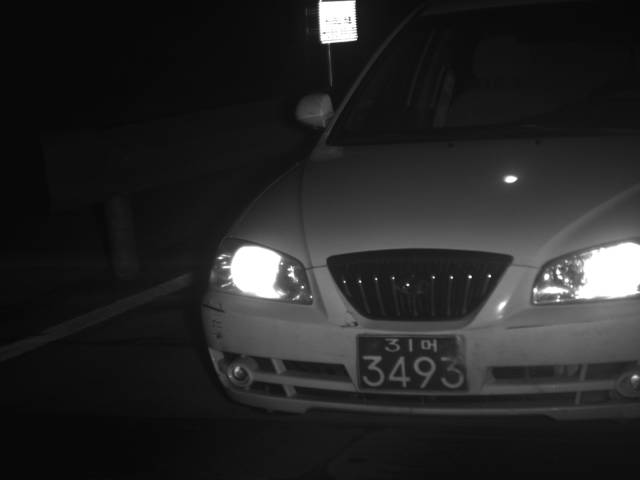car: (197, 1, 639, 427)
plate: (353, 334, 473, 394)
